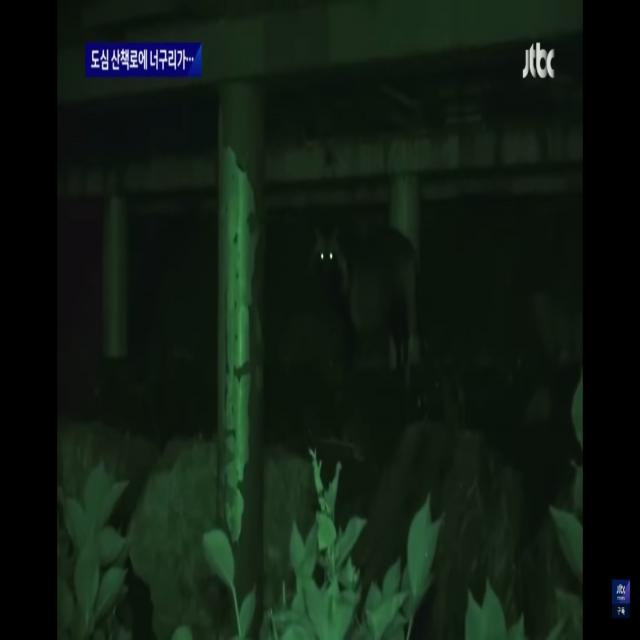racoon: (307, 220, 429, 394)
